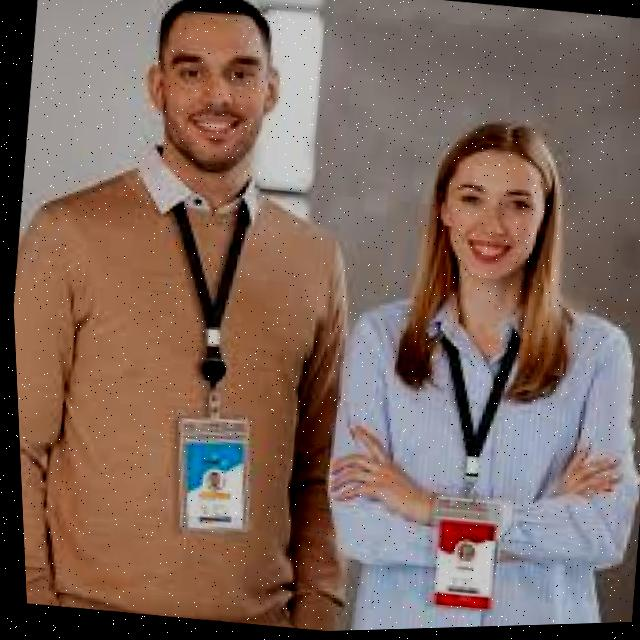id_card: (116, 186, 304, 550), (398, 325, 535, 628)
